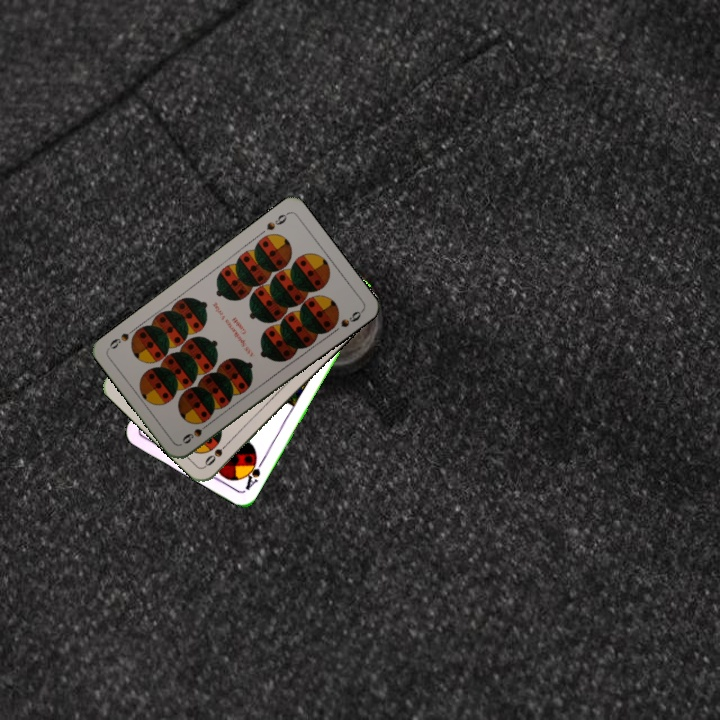S9: (178, 418, 213, 447), (262, 208, 291, 233)
SA: (240, 453, 266, 493)
SO: (201, 436, 233, 469)
